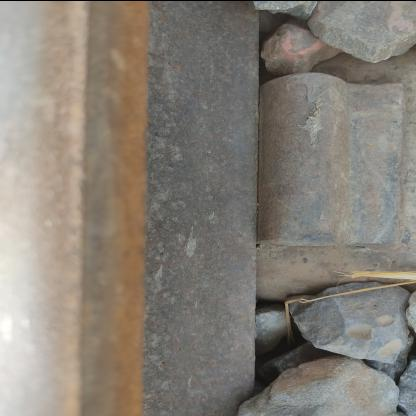Defective 1: (219, 41, 415, 275)
